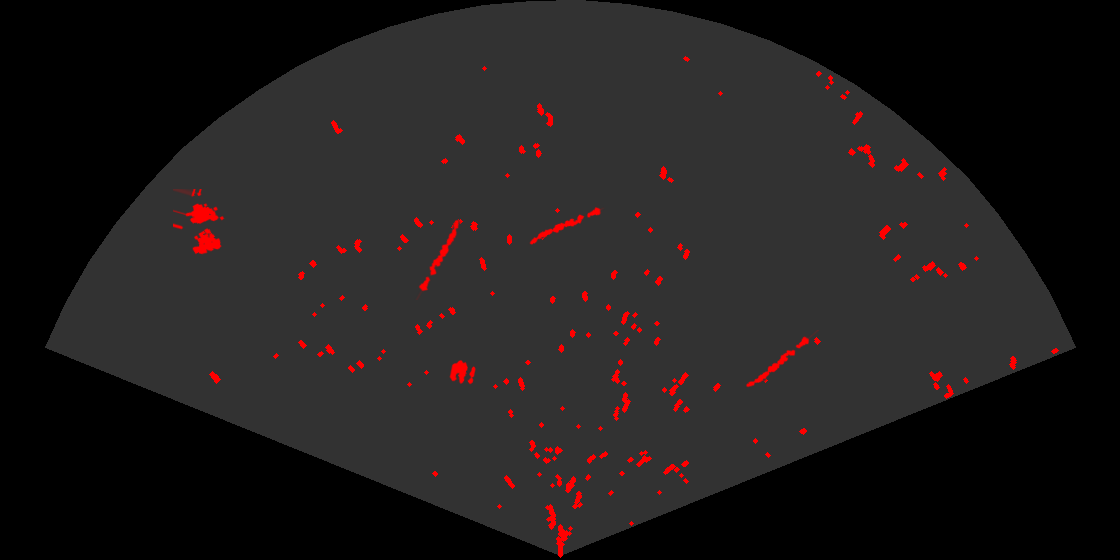ball: (448, 359, 477, 386)
cage: (173, 189, 226, 256)
chain: (744, 330, 819, 389), (414, 218, 461, 300), (528, 206, 605, 246)
